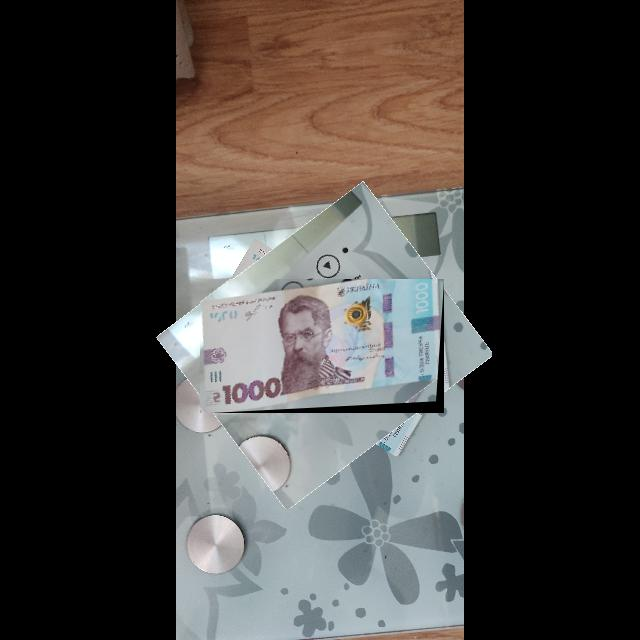1000uah: (200, 279, 440, 414)
